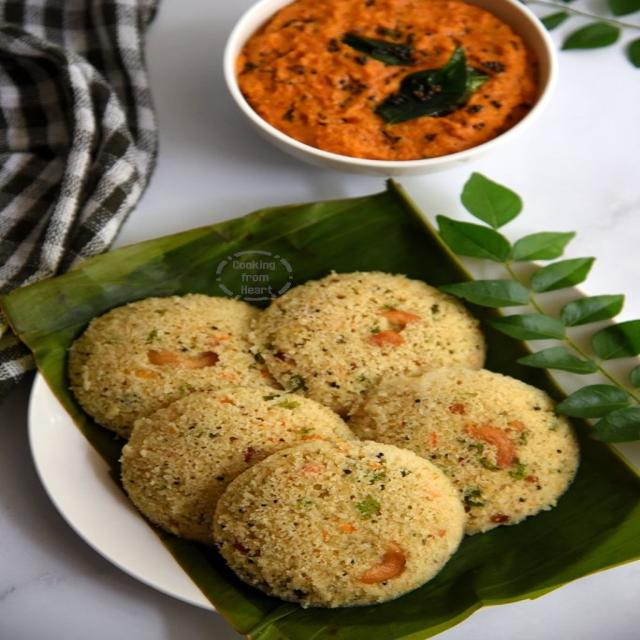rave idli: (203, 438, 470, 618), (350, 367, 598, 541), (247, 260, 496, 406), (106, 384, 360, 522), (53, 284, 286, 426)
